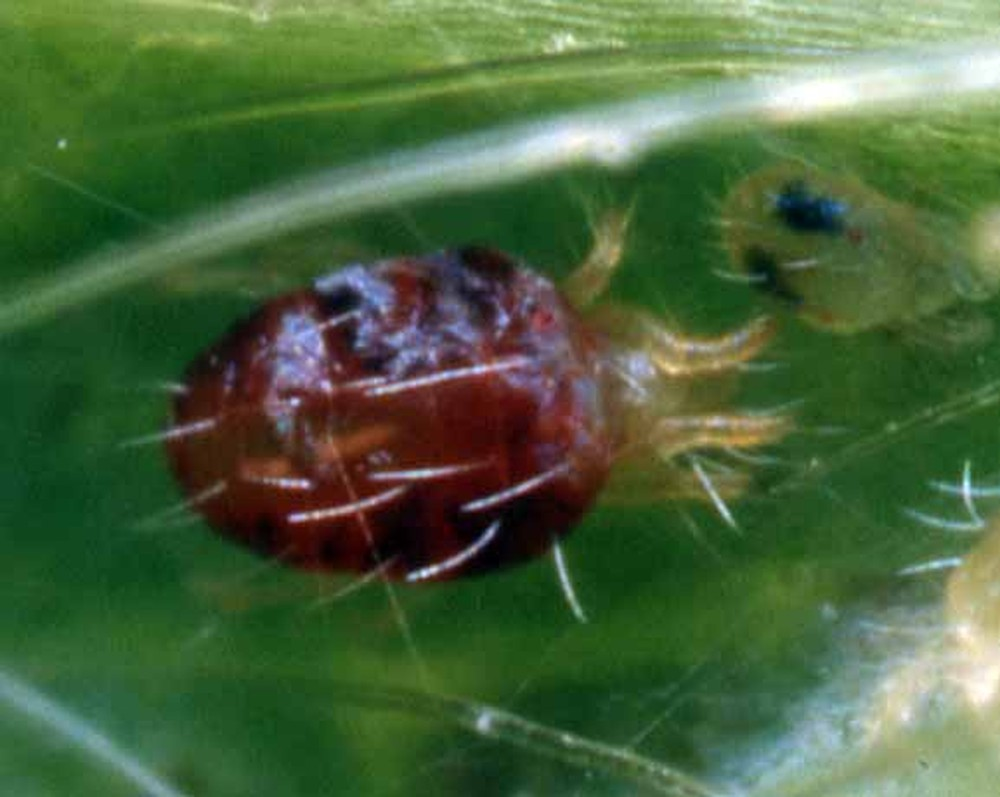Aracnido Rojo: (145, 193, 791, 592)
